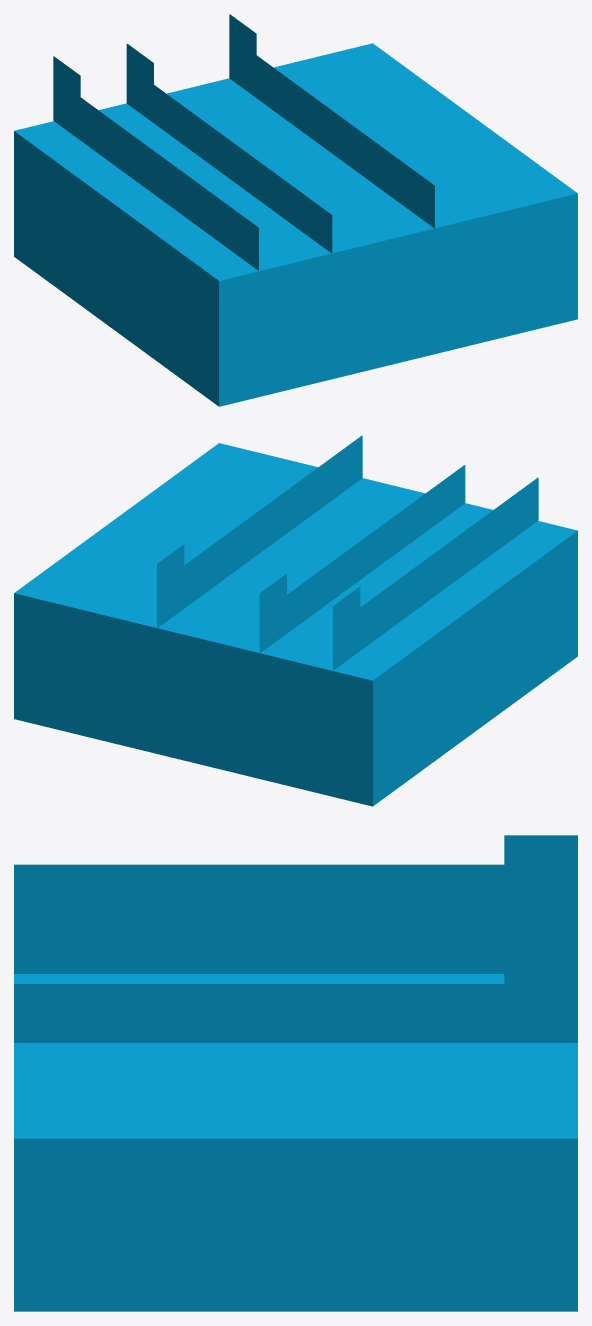
The model's file is Office_Folder_05_Lod.fbx.
3 renders of one model, top to bottom at view 1: azimuth 30°, elevation 25°; view 2: azimuth 150°, elevation 25°; view 3: azimuth 270°, elevation 25°, orthographic. The views are drawn at different scales.
Visible parts, largest first — view 1: Office_Folder_05_Lod; view 2: Office_Folder_05_Lod; view 3: Office_Folder_05_Lod.
Boxes of the visible parts, left/top/right/bottom form: Office_Folder_05_Lod: left=14, top=14, right=577, bottom=406; Office_Folder_05_Lod: left=14, top=435, right=577, bottom=806; Office_Folder_05_Lod: left=14, top=835, right=577, bottom=1311.
Size of the model in its own units: 21.88 by 11.12 by 21.67.
